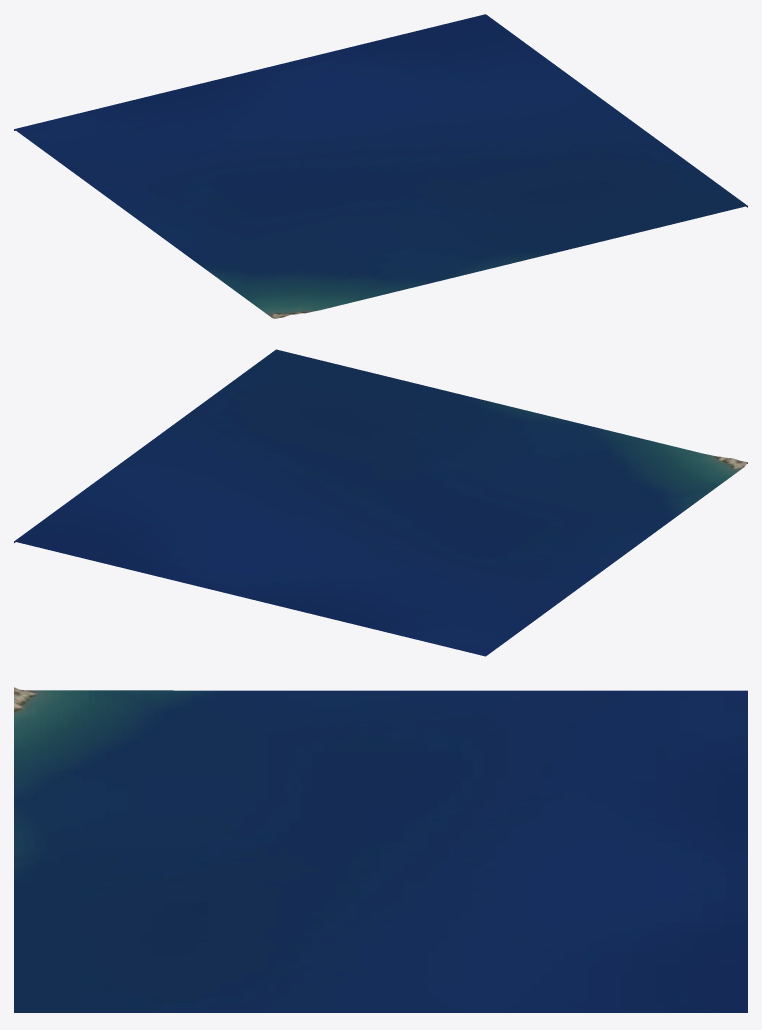
3 views of the same model, one above another, from view 1: azimuth 30°, elevation 25°; view 2: azimuth 150°, elevation 25°; view 3: azimuth 270°, elevation 25° (orthographic). The views are drawn at different scales.
Bounding box in the file's own units: 250 × 2.39 × 241.
1 material, 1 textured.
